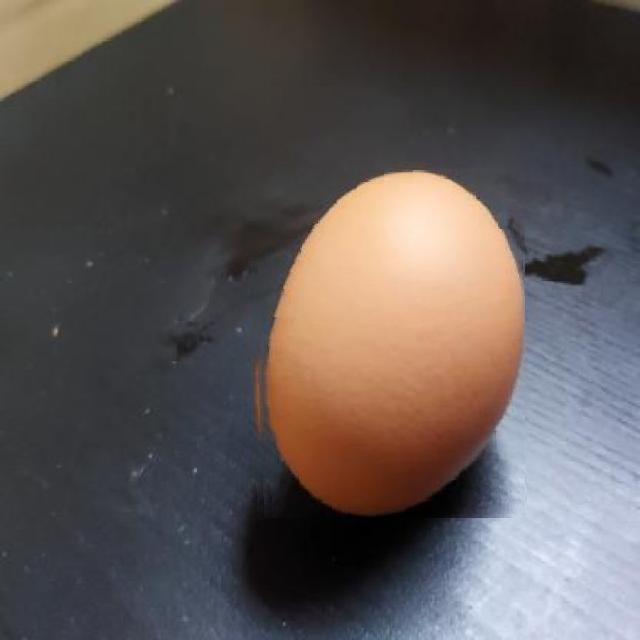biodegradable: (249, 170, 525, 518)
